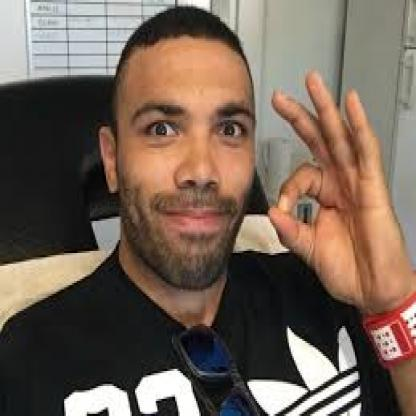ok: (260, 60, 400, 306)
